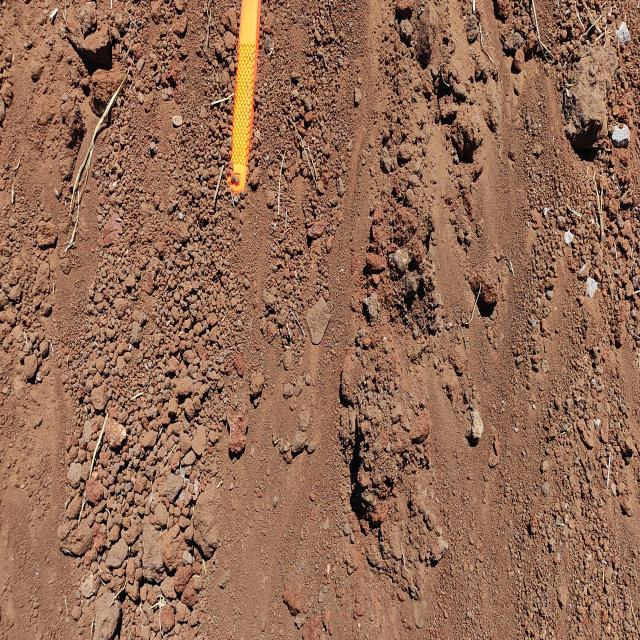Orange_hammer: (226, 0, 261, 196)
